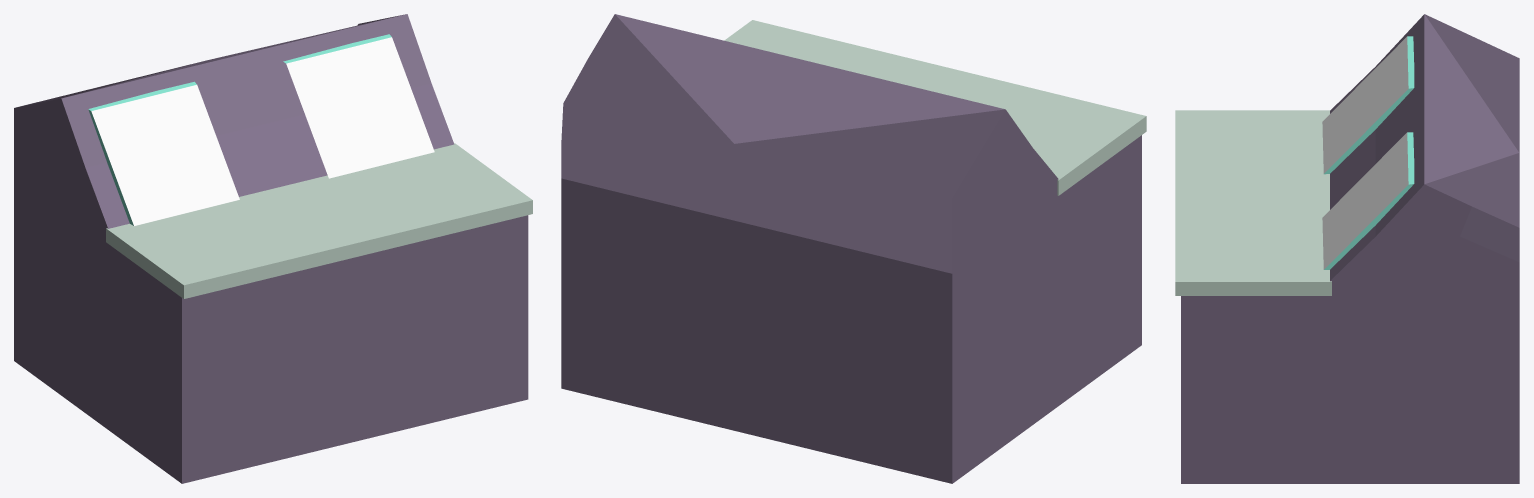
Rendered from Terminal.fbx.
The picture shows the model from 3 angles, left to right: view 1: azimuth 30°, elevation 25°; view 2: azimuth 150°, elevation 25°; view 3: azimuth 270°, elevation 25°; orthographic projection. The views are drawn at different scales.
Parts seen in each view (by area): view 1: Cube; view 2: Cube; view 3: Cube.
Boxes of the visible parts, x1,y1,x2,y2 form: Cube: (14, 14, 532, 483); Cube: (561, 14, 1146, 483); Cube: (1175, 14, 1519, 483).
Size of the model in its own units: 363 by 296 by 308.
